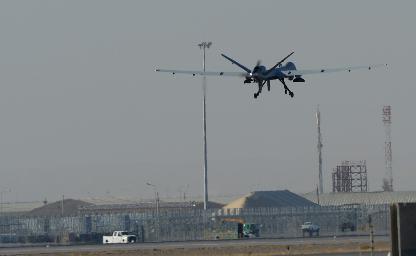MQ9: (155, 52, 387, 97)
